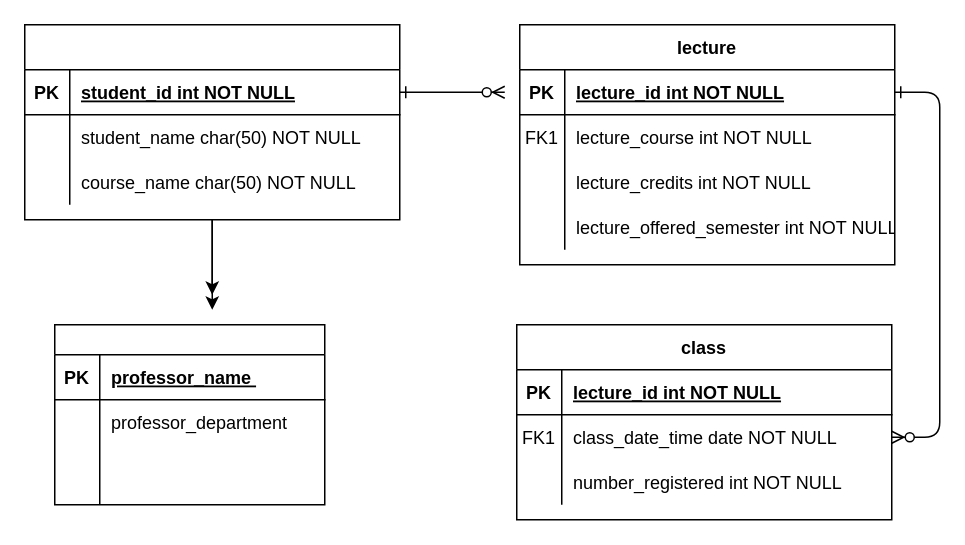
This 965x545 diagram has some shape labels left out. Here are the shapes that lost their labels. From the top down, the box of each, then its label:
(23, 23, 400, 220): Students
(53, 323, 325, 505): Professors
